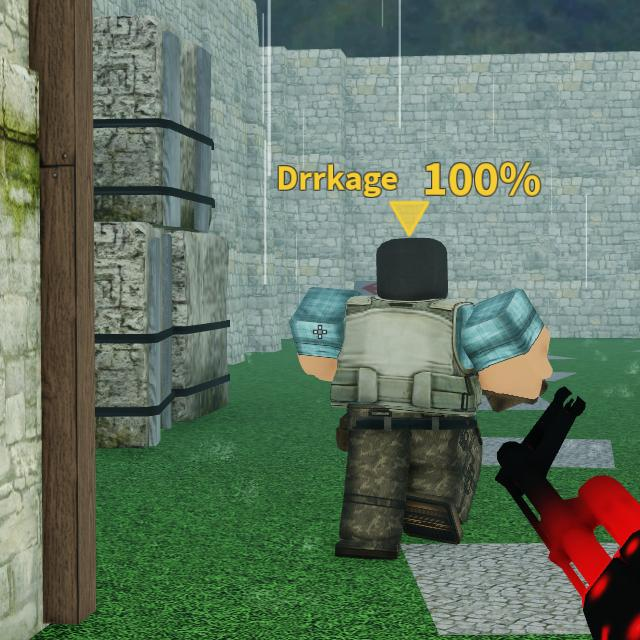Head: (377, 238, 447, 298)
Player: (290, 238, 546, 558)
